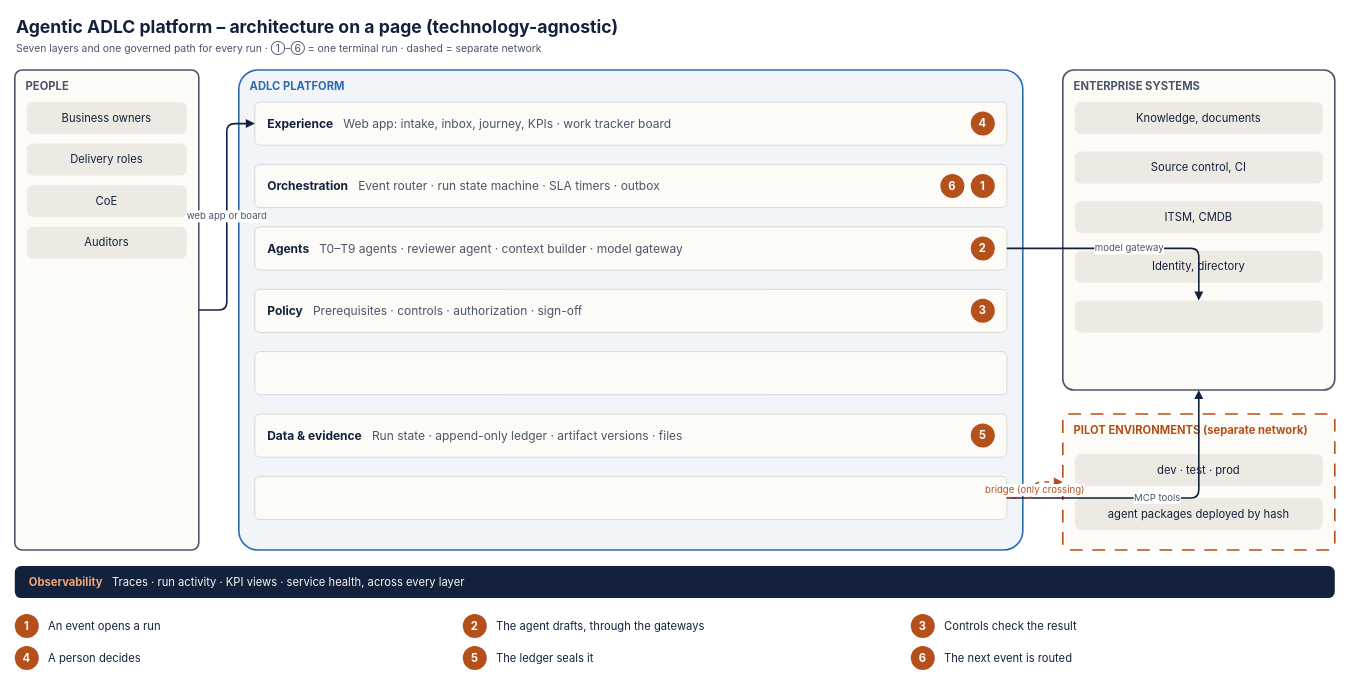
Image size: 1356x683. Some labels were removed from this diagram. Here are the shapes that lost their labels. From the top down, the centre of each, then its label:
point (1198, 316): Model providers
point (630, 373): Specs & config Terminal specs · guardrails · catalogues · use-case profiles
point (630, 498): Integration Tool gateway (MCP servers) · bridge to the pilot environments
